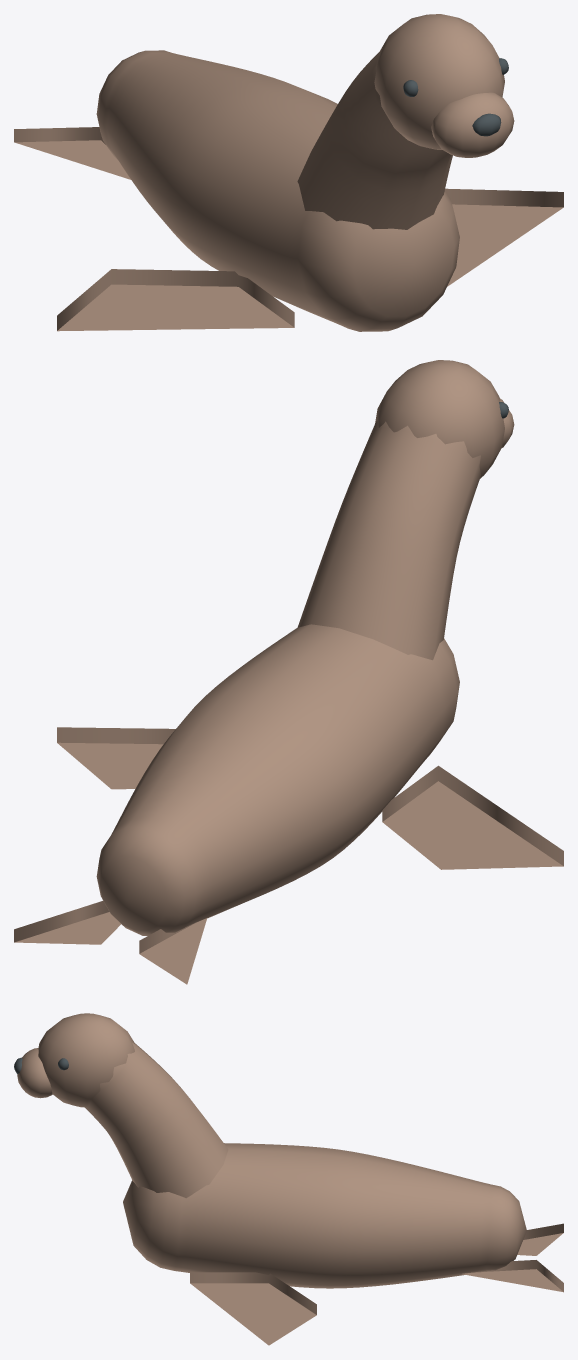
File: open-ocean-and-deep-sea-life-california-sea-lion-58ed43ba__5894.glb
The picture shows the model from 3 angles, top to bottom: view 1: azimuth 30°, elevation 25°; view 2: azimuth 150°, elevation 25°; view 3: azimuth 270°, elevation 25°; orthographic projection. The views are drawn at different scales.
Visible parts, largest first — view 1: california-sea-lion; view 2: california-sea-lion; view 3: california-sea-lion.
Boxes of the visible parts, <box> form: california-sea-lion: <box>14,14,563,331</box>; california-sea-lion: <box>14,360,563,984</box>; california-sea-lion: <box>14,1013,563,1345</box>.
Bounding box in the file's own units: 1.5 × 1.06 × 2.
